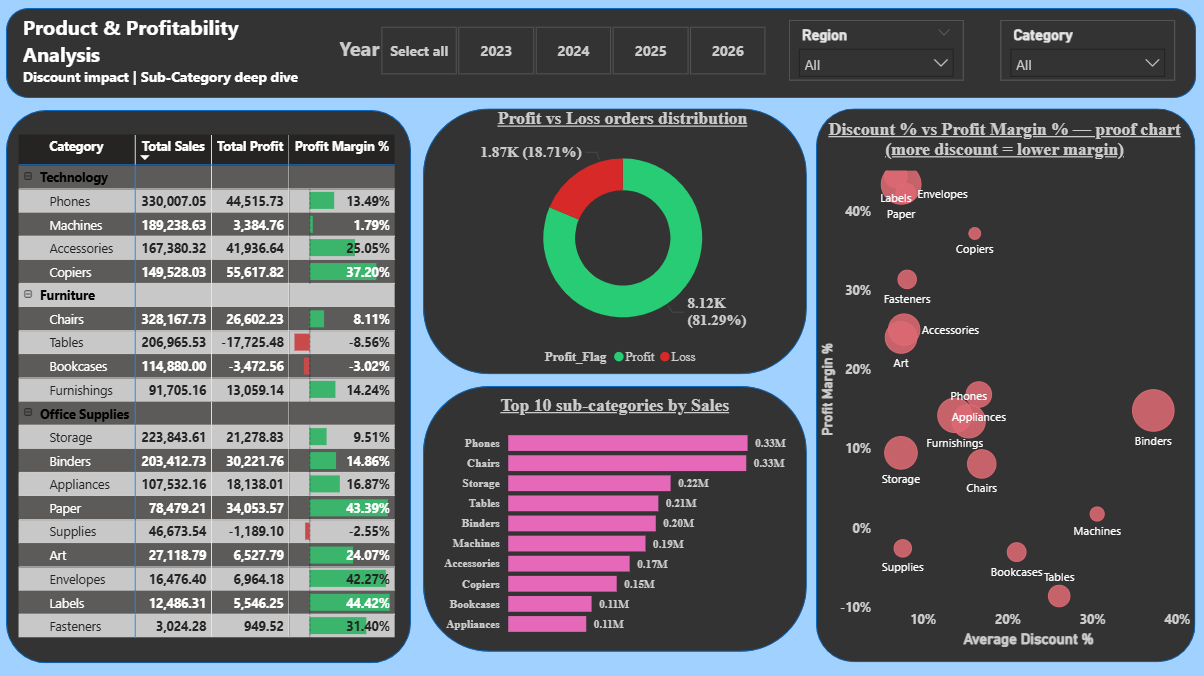

Layout of this report page (visuals, bound fields, positions):
{"tool":"powerbi","page":{"name":"Product & Profitability Analysis ","canvas":[1280,720],"ordinal":1},"visuals":[{"type":"shape","box":[8.8,117.4,428.5,585.5],"z":0},{"type":"shape","box":[9.4,9.4,1259.4,95.3],"z":1000},{"type":"textbox","box":[22.1,8.8,311.8,95.6],"z":2000},{"type":"shape","box":[450,115.6,406.2,281.2],"z":3000},{"type":"shape","box":[450,409.4,406.2,281.2],"z":4000},{"type":"shape","box":[867.2,115.6,401.6,585.9],"z":5000},{"type":"pivotTable","fields":{"Rows":["fact_sales.Category","fact_sales.Sub_Category"],"Values":["Measure.Total Sales","Measure.Total Profit","Measure.Profit Margin %"]},"box":[17.6,137.9,409.4,545.9],"z":6000},{"type":"scatterChart","title":"Discount % vs Profit Margin % — proof chart (more discount = lower margin)","fields":{"X":["Measure.Average Discount %"],"Y":["Measure.Profit Margin %"],"Size":["Measure.Total Orders"],"Category":["fact_sales.Sub_Category"]},"box":[865.8,127.7,402.1,563.5],"z":7000},{"type":"clusteredBarChart","title":"Top 10 sub-categories by Sales","fields":{"Category":["vw_Sales_Summary.Sub_Category"],"Y":["Sum(vw_Sales_Summary.Total Sales)"]},"box":[466.6,419.7,374.2,264.1],"z":8000},{"type":"donutChart","title":"Profit vs Loss orders distribution","fields":{"Category":["fact_sales.Profit_Flag"],"Y":["CountNonNull(fact_sales.Order_ID)"]},"box":[466.6,115.9,390.3,281.7],"z":9000},{"type":"textbox","box":[356.6,32.3,54.3,48.4],"z":10000},{"type":"slicer","fields":{"Values":["DimDate.Year"]},"box":[381.2,21.9,456.2,64.1],"z":11000},{"type":"slicer","fields":{"Values":["fact_sales.Region"]},"box":[837.5,21.9,184.4,64.1],"z":12000},{"type":"slicer","fields":{"Values":["fact_sales.Category"]},"box":[1062.5,21.9,184.4,64.1],"z":13000}]}

Visuals, with their boxes in screenshot pixels (x1, y1, x2, y2), scaled from the page's 1280x720 canvas onto the 1204x676 screenshot:
shape: region(8, 110, 411, 660)
shape: region(9, 9, 1193, 98)
textbox: region(21, 8, 314, 98)
shape: region(423, 109, 805, 373)
shape: region(423, 384, 805, 648)
shape: region(816, 109, 1193, 659)
pivotTable - fact_sales.Category x fact_sales.Sub_Category: region(17, 129, 402, 642)
"Discount % vs Profit Margin % — proof chart (more discount = lower margin)" scatterChart: region(814, 120, 1193, 649)
"Top 10 sub-categories by Sales" clusteredBarChart: region(439, 394, 791, 642)
"Profit vs Loss orders distribution" donutChart: region(439, 109, 806, 373)
textbox: region(335, 30, 387, 76)
slicer - DimDate.Year: region(359, 21, 788, 81)
slicer - fact_sales.Region: region(788, 21, 961, 81)
slicer - fact_sales.Category: region(999, 21, 1173, 81)
